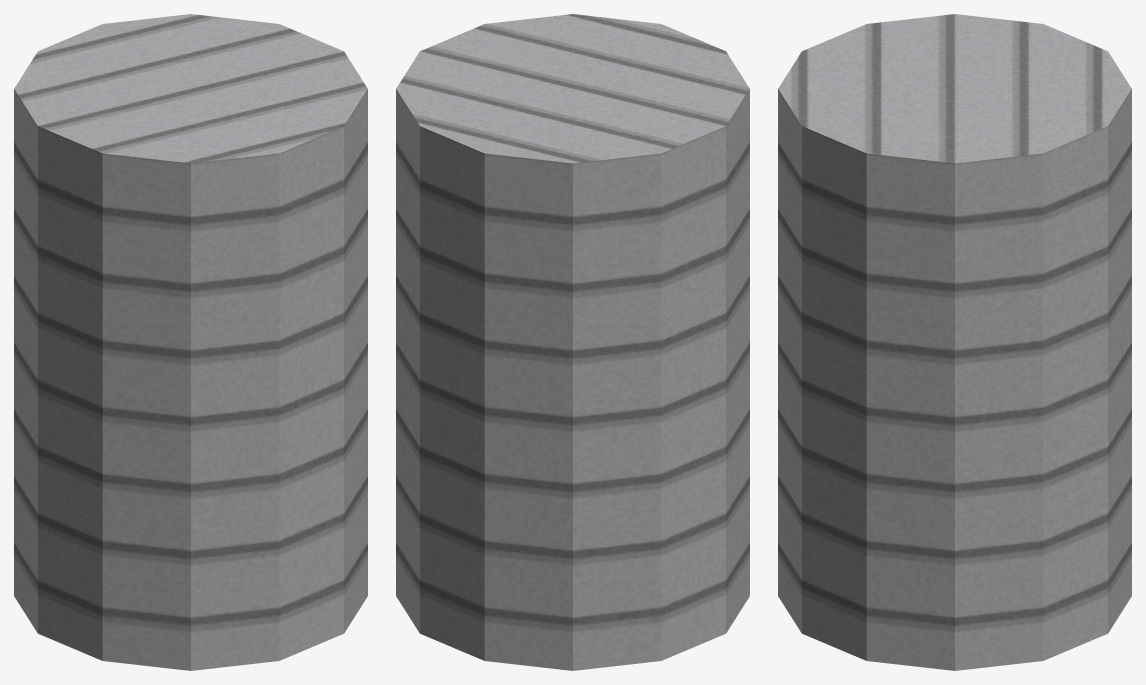
The model's file is recycling_bin.glb.
3 views of the same model, side by side, from view 1: azimuth 30°, elevation 25°; view 2: azimuth 150°, elevation 25°; view 3: azimuth 270°, elevation 25° (orthographic).
Visible parts, largest first — view 1: recycling_bin-col; view 2: recycling_bin-col; view 3: recycling_bin-col.
Part boxes in pixels (x1=…): recycling_bin-col: x1=14, y1=14, x2=367, y2=670; recycling_bin-col: x1=396, y1=14, x2=749, y2=670; recycling_bin-col: x1=778, y1=14, x2=1131, y2=670.
Bounding box in the file's own units: 0.6 × 0.95 × 0.6.
1 material, 1 textured.
